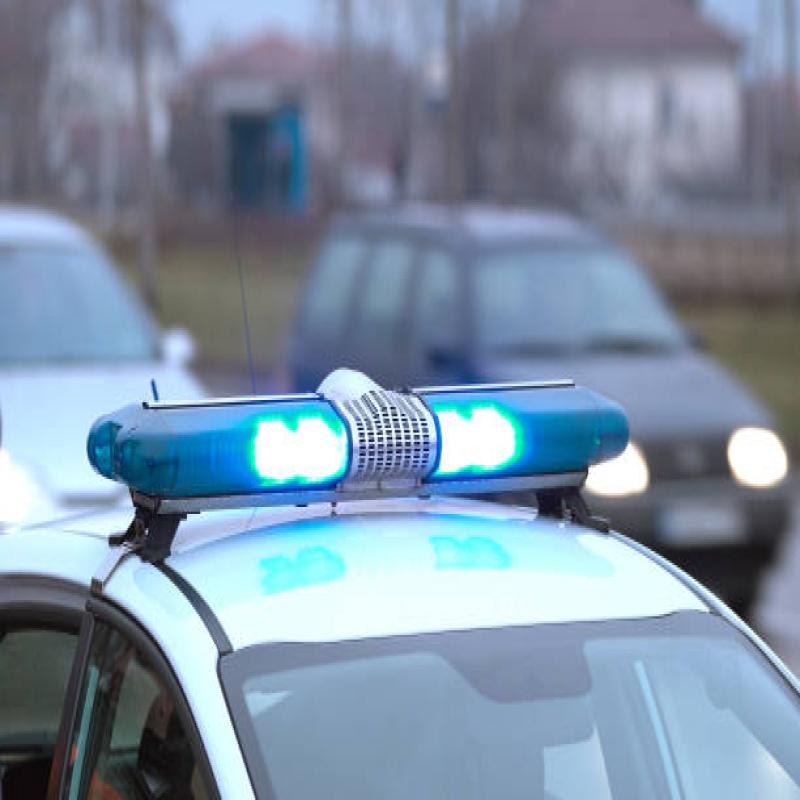AmbulanceSiren: (77, 356, 644, 520)
